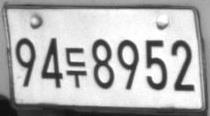2: (170, 39, 194, 90)
4: (40, 37, 63, 88)
5: (145, 39, 167, 90)
8: (91, 38, 114, 90)
9: (117, 39, 139, 90), (15, 37, 36, 87)
두: (65, 47, 87, 88)
